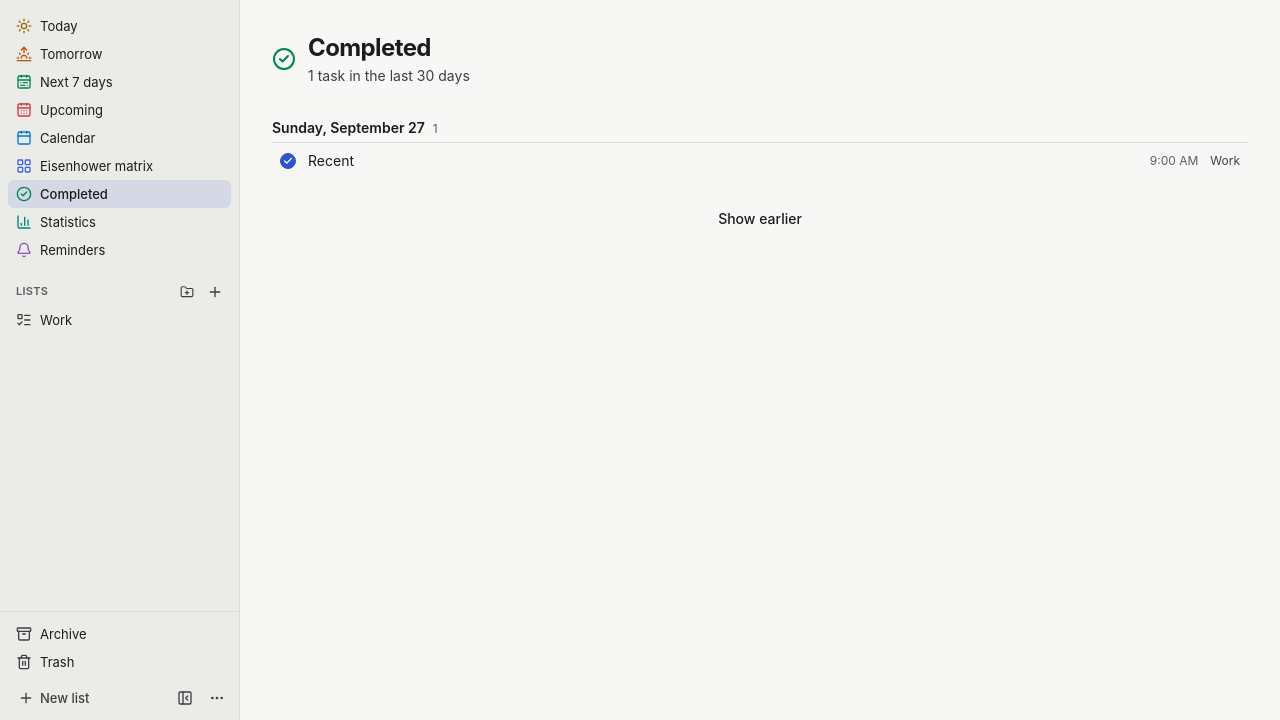
Test: Completed › shows the last 30 days and adds 30 more with "Show earlier"
Expected: the list item "Old" is not shown
Expected: the text "1 task in the last 30 days" is shown, [308,67,470,84]
Click the button "Show earlier" at (760, 219), box [704,203,816,235]
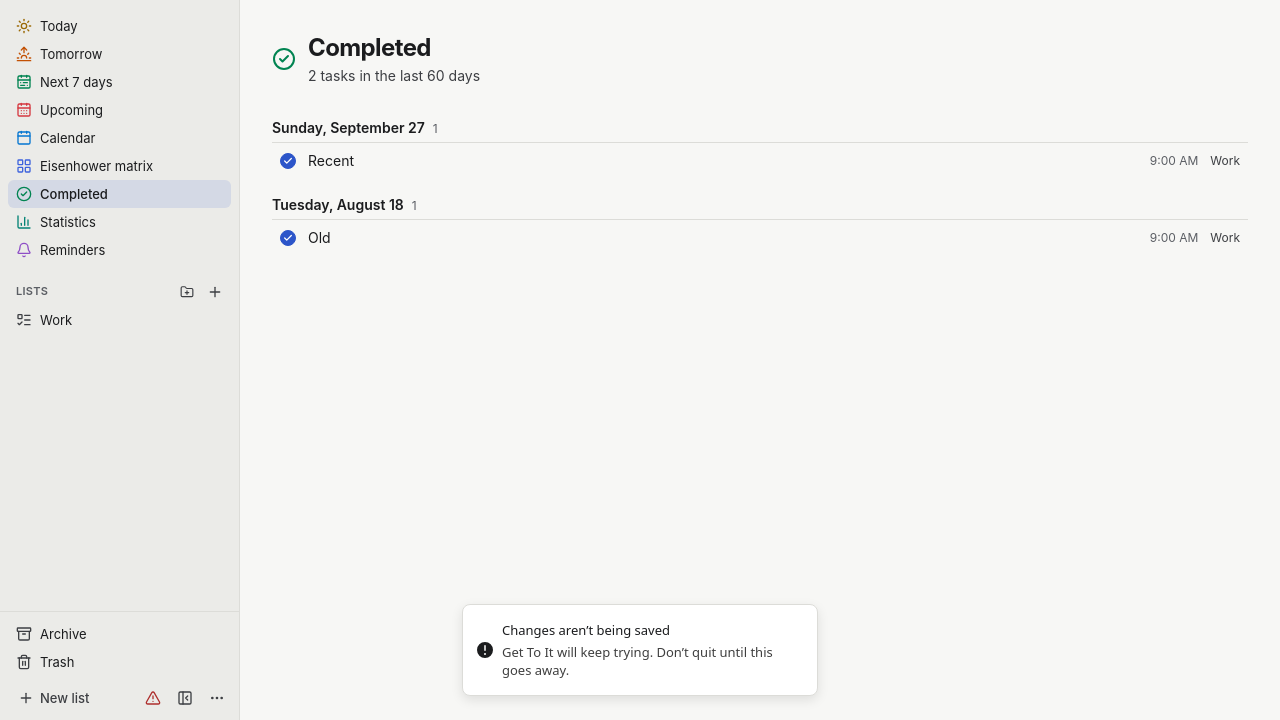
Result: the list item "Old" is shown at [280,228,1240,248]
Result: the text "2 tasks in the last 60 days" is shown at [308,67,480,84]
Result: the button "Show earlier" is gone
